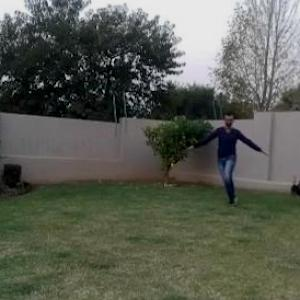land: (174, 104, 258, 204)
